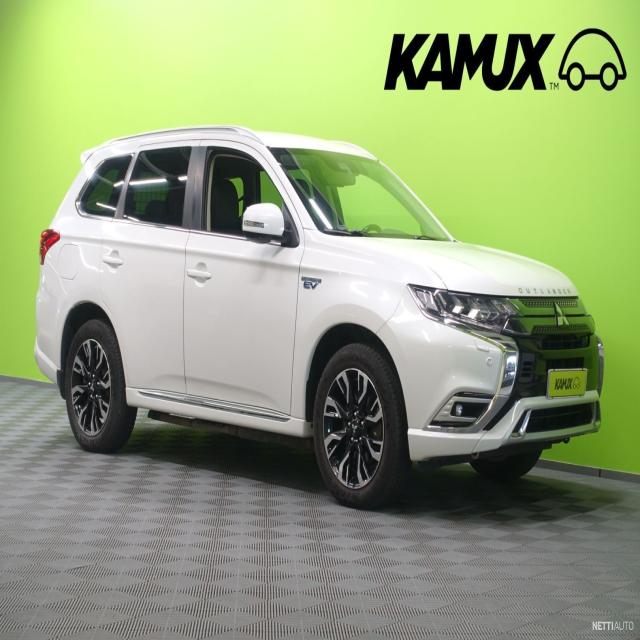light_vehicle: (34, 124, 606, 508)
